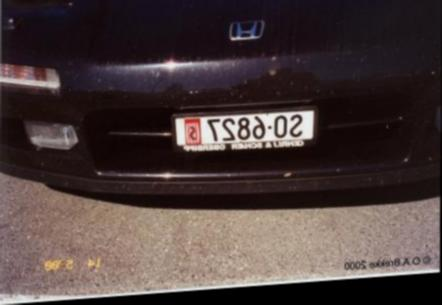License_Plate: (168, 101, 321, 158)
